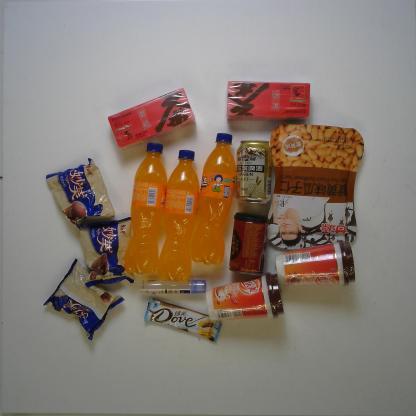Alcohol: (234, 138, 274, 205)
Canned Food: (227, 214, 270, 278)
Chocolate: (142, 296, 224, 343)
Dessert: (44, 258, 124, 343), (46, 155, 117, 228), (76, 215, 135, 285)
Dried Fruit: (268, 118, 366, 248)
Drink: (194, 130, 236, 267), (126, 143, 168, 276), (157, 148, 197, 284)
Instant Drink: (104, 88, 195, 148), (205, 272, 284, 324), (275, 240, 360, 288), (225, 78, 314, 123)
Stationery: (141, 279, 207, 296)
